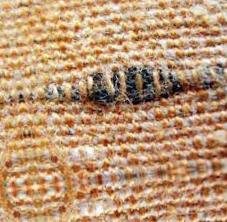slub: (20, 64, 227, 106)
